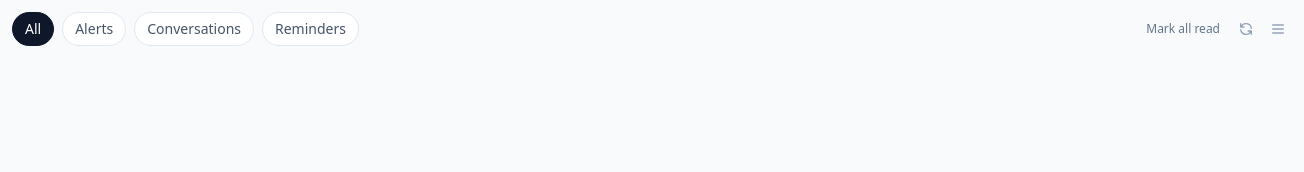
Test: DashboardFeed › shows the empty state when a filter matches zero items
Click the button "Conversations" at [194, 29], box 134,12 -> 254,46
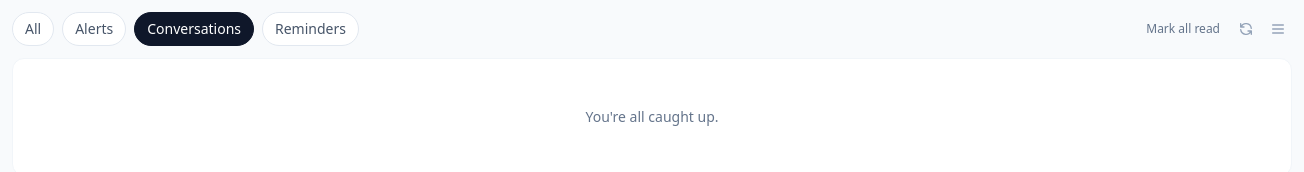
expect the text "You're all caught up." is shown: met, box 586,107 -> 718,126
